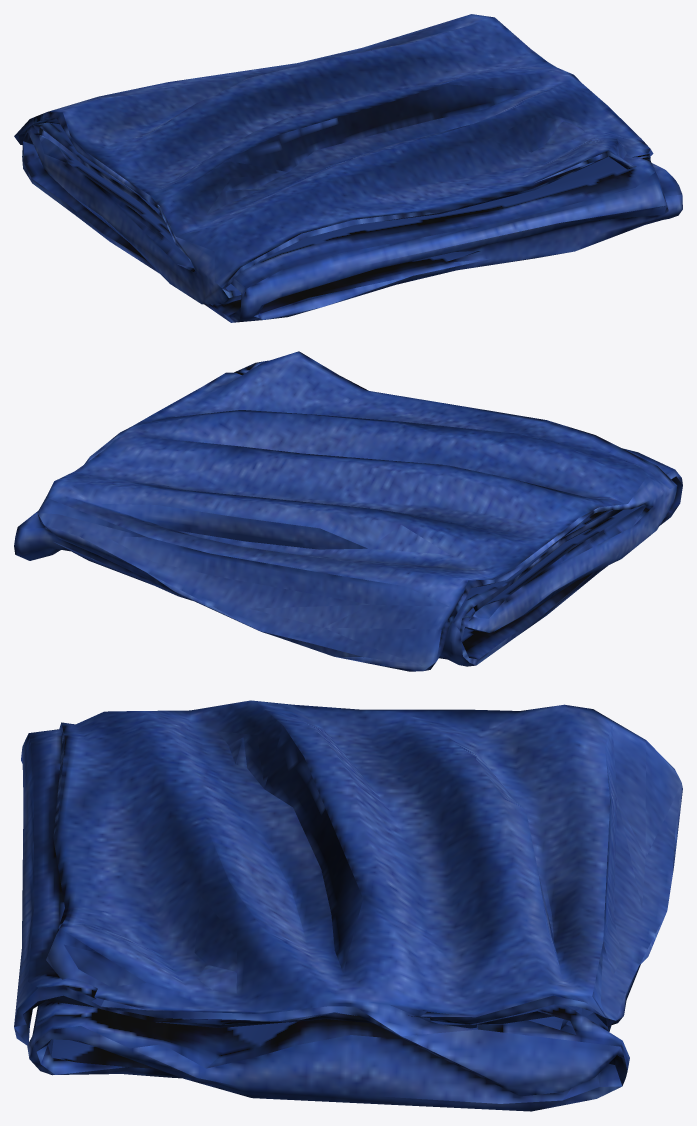
Rendered from item_6cape2.glb.
3 views of the same model, one above another, from view 1: azimuth 30°, elevation 25°; view 2: azimuth 150°, elevation 25°; view 3: azimuth 270°, elevation 25° (orthographic). The views are drawn at different scales.
Visible parts, largest first — view 1: equipment_6cape2; view 2: equipment_6cape2; view 3: equipment_6cape2.
Part boxes in pixels (box(x1,y1,x2,y2)): equipment_6cape2: box(14, 14, 682, 322); equipment_6cape2: box(14, 351, 682, 671); equipment_6cape2: box(14, 700, 682, 1111).
Size of the model in its own units: 1.01 by 0.2111 by 0.899.
1 material, 1 textured.
